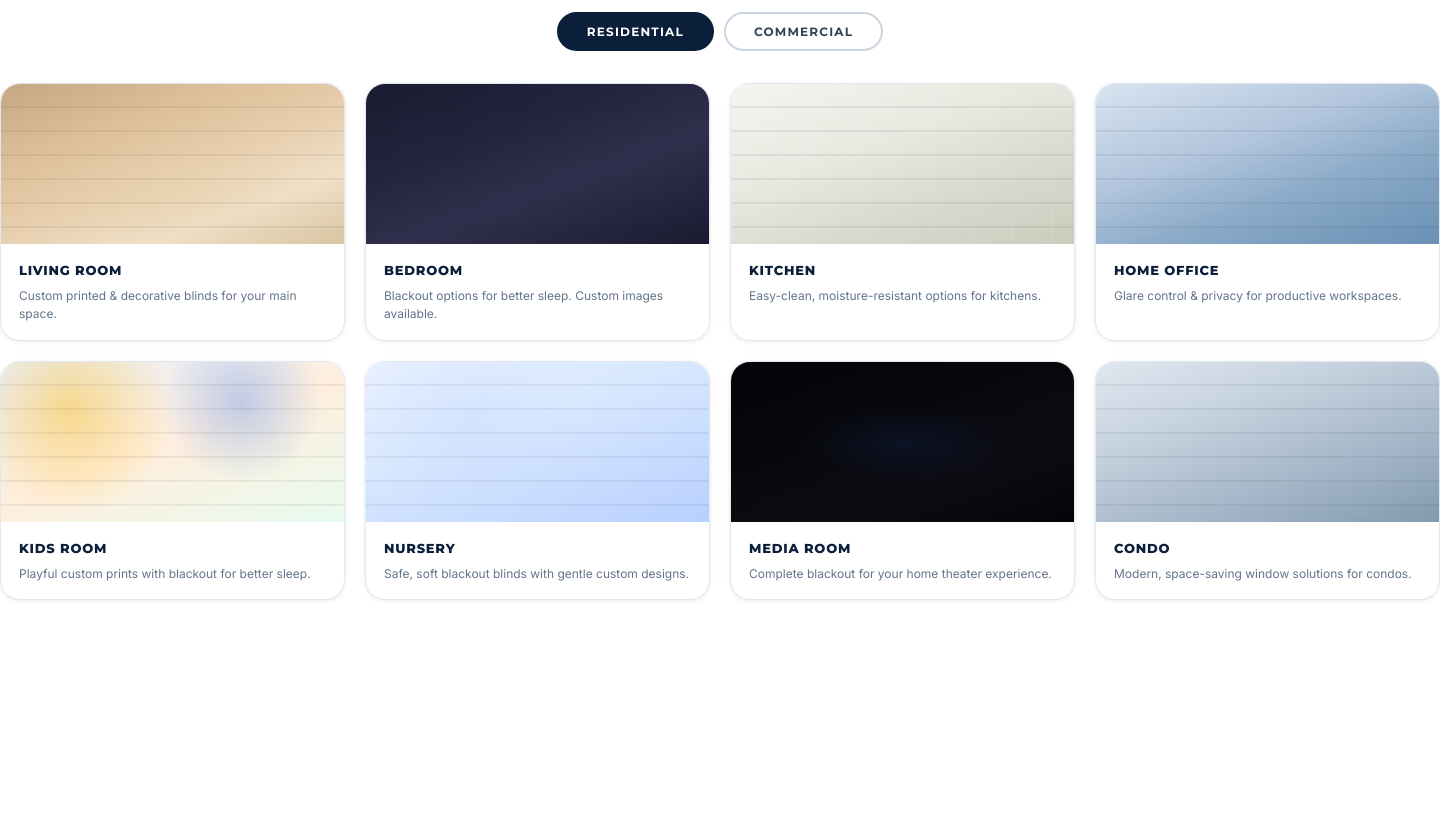
it: RoomTabs › switches to commercial rooms when the Commercial tab is clicked
This screenshot has width=1440, height=822.
What coordinates should you click on to do the following:
click the button "Commercial"
I would click on:
 (804, 32)
Its box is x1=724 y1=12 x2=883 y2=51.
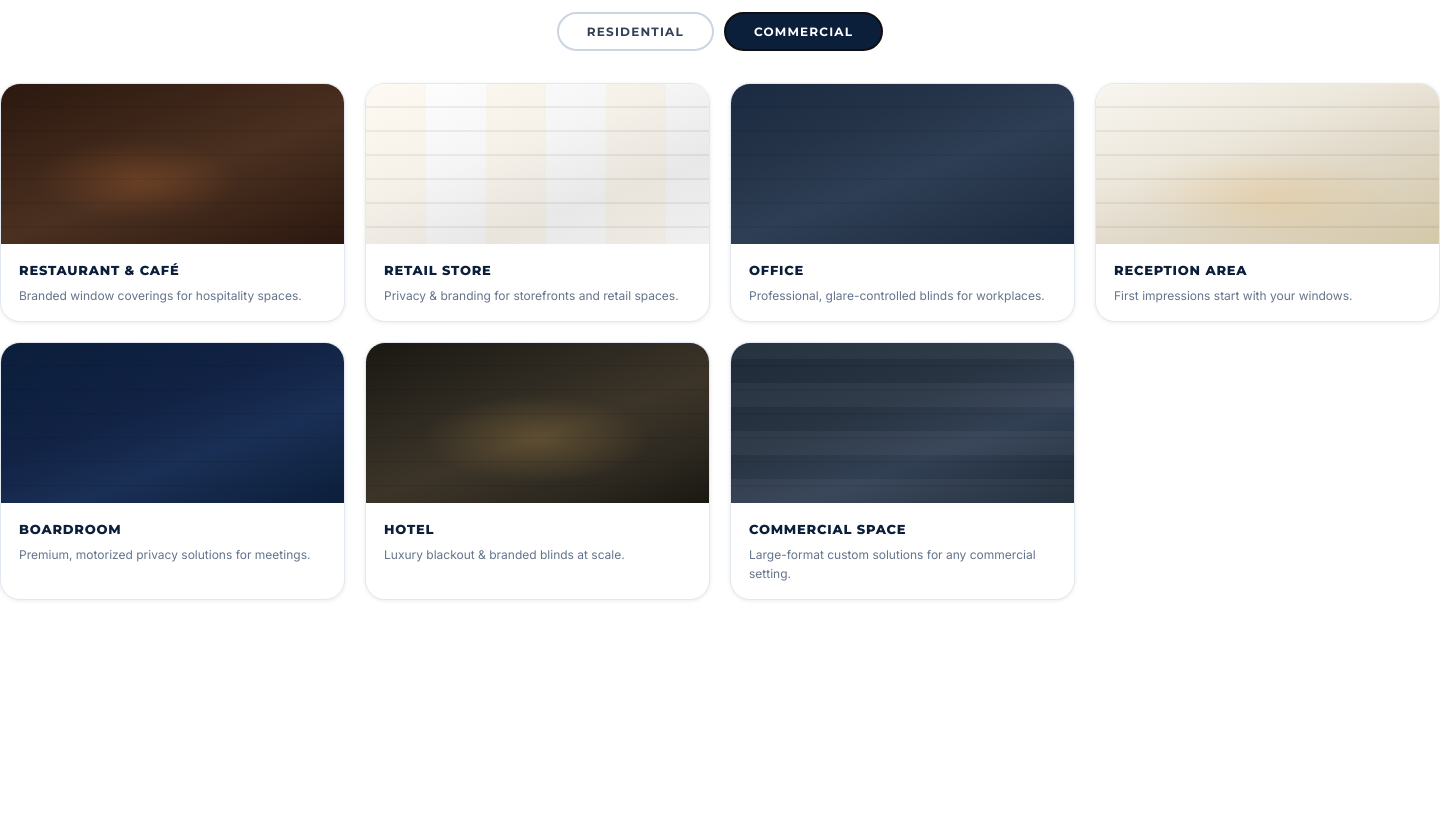
Check: the heading "Boardroom" is shown, box x1=19 y1=521 x2=122 y2=537
Check: the heading "Hotel" is shown, box x1=384 y1=521 x2=434 y2=537
Check: the link "Living Room" is gone
